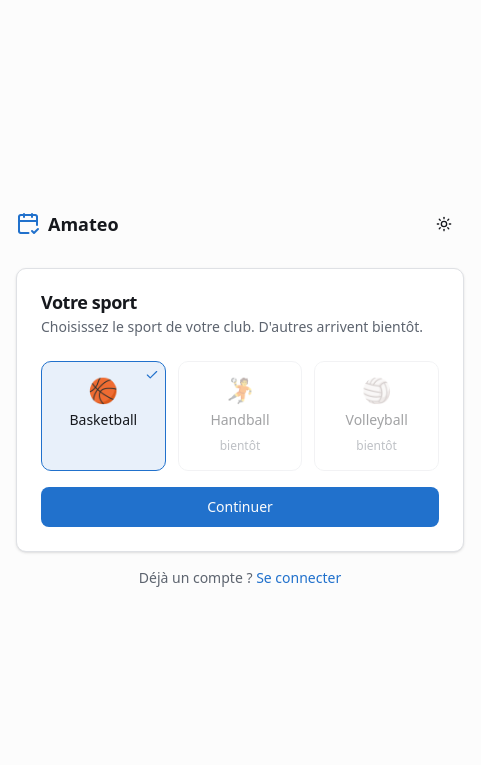
Test: RegisterPage › validates the email on blur
Click the button "Continuer" at point(240, 507), box [41, 487, 439, 527]
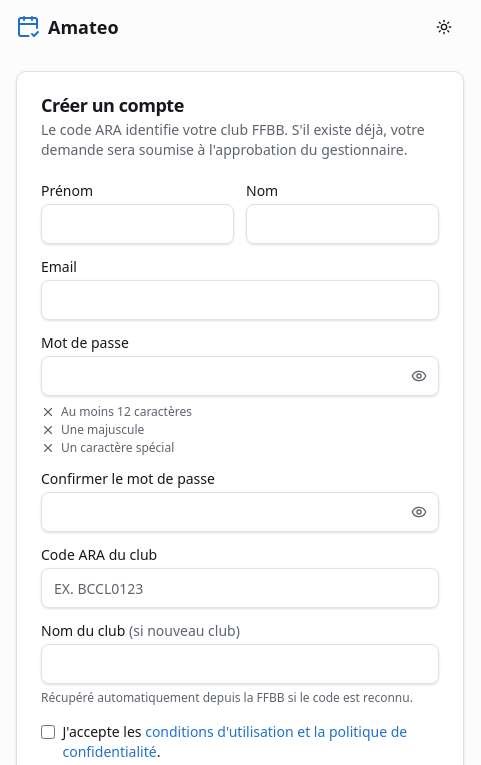
Type "pas-un-email" into the field labelled "Email" at point(240, 300), box [41, 280, 439, 320]
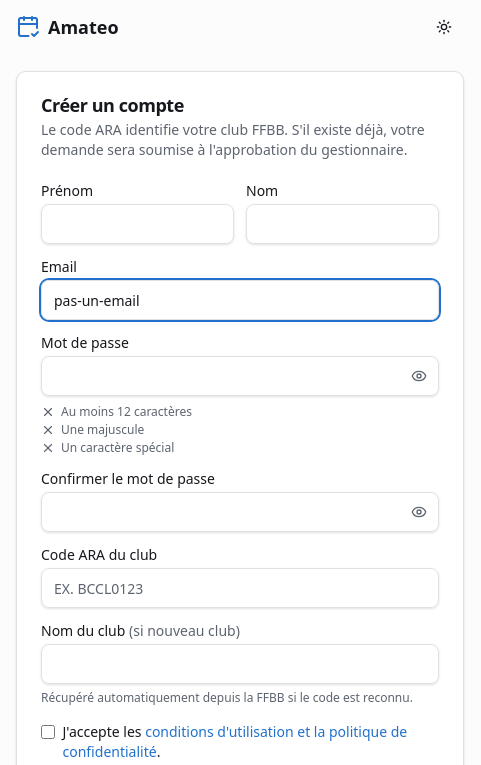
Press Tab
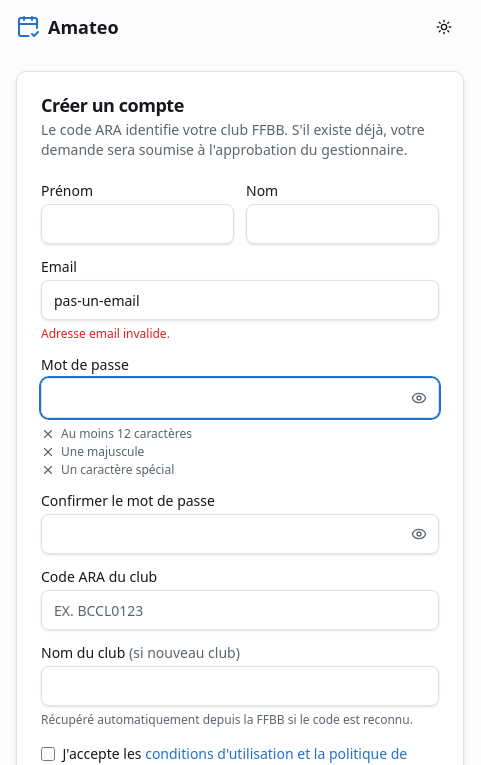
Now the text "Adresse email invalide." is shown, box [41, 325, 170, 342]
